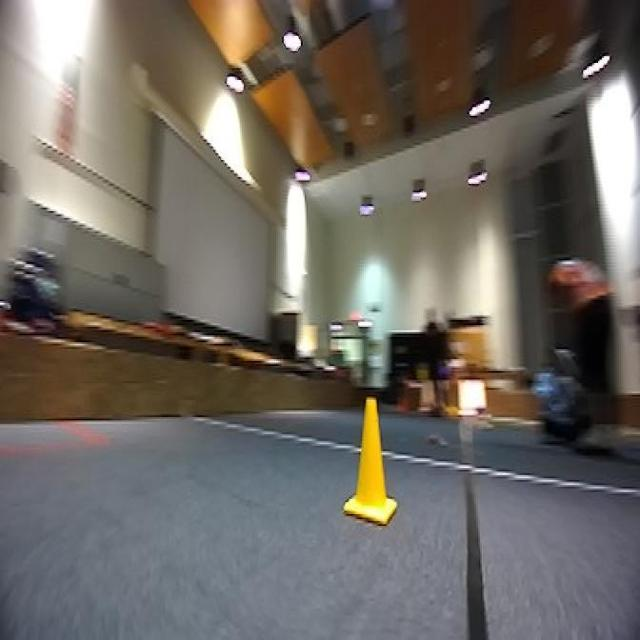frc_cone: (345, 398, 402, 528)
